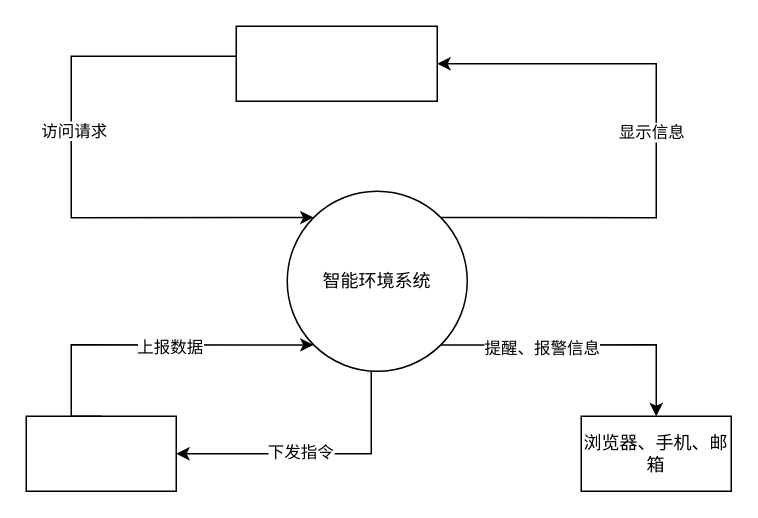
Some shapes in this 758 by 518 pixel diagram are drawn without their labels. Each missing label, with the centre of its shape:
操作端（运营端、商户端、App，Open Client）: point (336, 63)
清扫机器人: point (100, 453)
